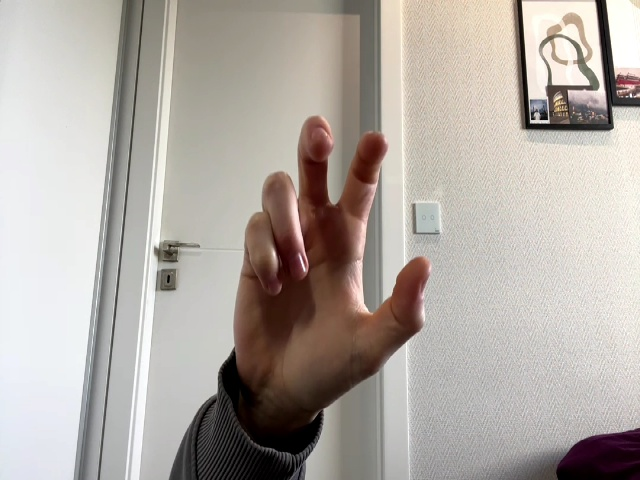CH: (233, 116, 431, 409)
